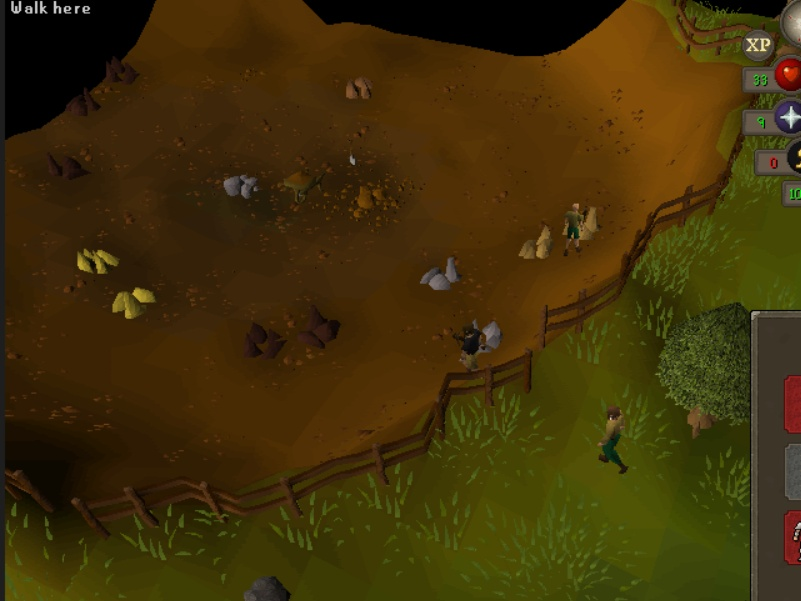clay: (519, 224, 559, 263), (566, 200, 606, 239)
copper: (341, 71, 379, 105)
gold: (73, 243, 127, 280), (107, 283, 161, 320)
iron: (42, 142, 96, 185), (241, 315, 290, 362), (293, 303, 342, 350), (99, 52, 145, 91), (64, 89, 106, 117)
tin: (417, 254, 470, 294), (459, 313, 512, 353)
